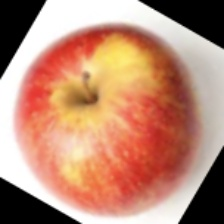apple: (21, 13, 222, 213)
